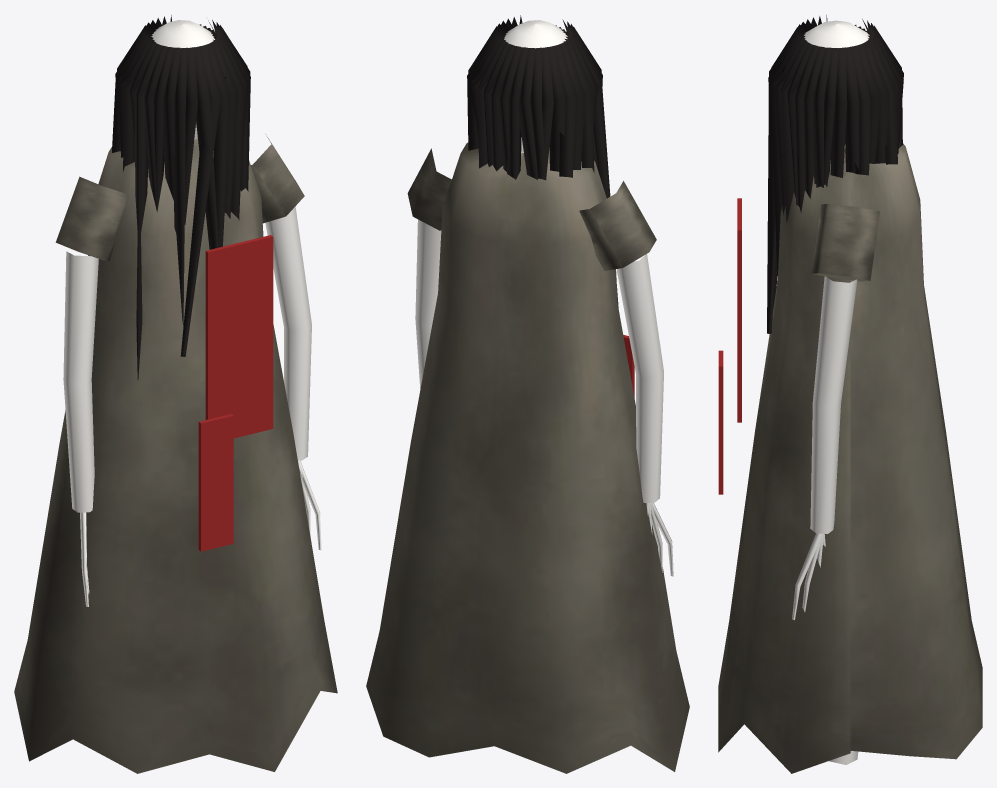
Rendered from hair_girl.glb.
3 renders of one model, left to right at view 1: azimuth 30°, elevation 25°; view 2: azimuth 150°, elevation 25°; view 3: azimuth 270°, elevation 25°, orthographic.
Parts seen in each view (by area): view 1: hair_girl; view 2: hair_girl; view 3: hair_girl.
Part boxes in pixels (bbox=[...]): hair_girl: bbox=[14, 15, 337, 773]; hair_girl: bbox=[366, 15, 689, 773]; hair_girl: bbox=[718, 15, 982, 773].
Size of the model in its own units: 0.72 by 1.68 by 0.5616.
Materials: 5 (1 with a texture image).
